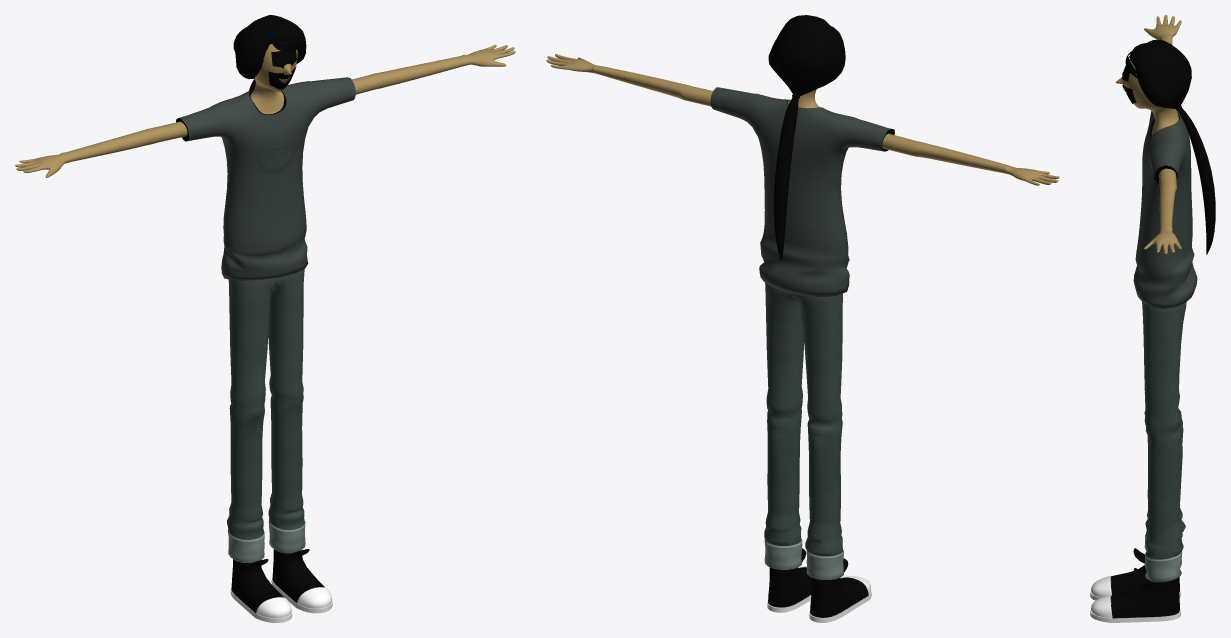
The model's file is Roy Game.obj.
3 renders of one model, left to right at view 1: azimuth 30°, elevation 25°; view 2: azimuth 150°, elevation 25°; view 3: azimuth 270°, elevation 25°, orthographic. The views are drawn at different scales.
Visible parts, largest first — view 1: Roy_Base; view 2: Roy_Base; view 3: Roy_Base.
Boxes of the visible parts, bbox=[...] form: Roy_Base: bbox=[15, 15, 515, 622]; Roy_Base: bbox=[546, 15, 1059, 622]; Roy_Base: bbox=[1090, 15, 1215, 622].
Bounding box in the file's own units: 1.73 × 1.9 × 0.3892.
